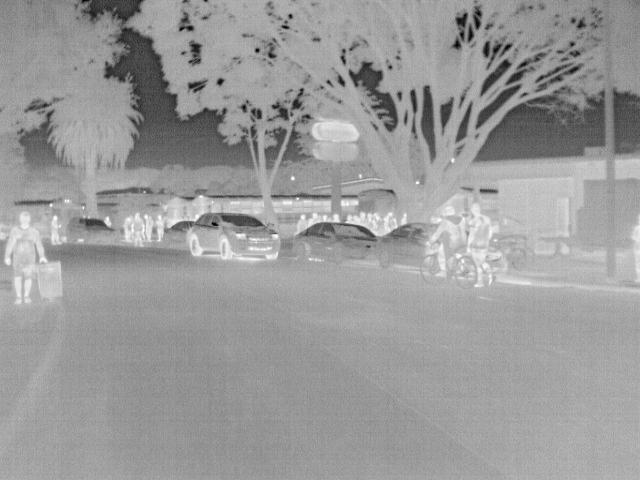car: (185, 209, 280, 260), (293, 222, 376, 264), (375, 222, 440, 267), (65, 218, 123, 244), (163, 218, 194, 250)
person: (2, 212, 48, 303), (423, 204, 466, 275), (463, 203, 496, 285), (131, 212, 147, 246), (48, 214, 62, 246), (153, 211, 166, 242), (293, 212, 311, 234), (386, 211, 401, 229), (308, 212, 322, 227), (357, 210, 369, 227), (329, 212, 342, 224), (343, 211, 355, 224)
